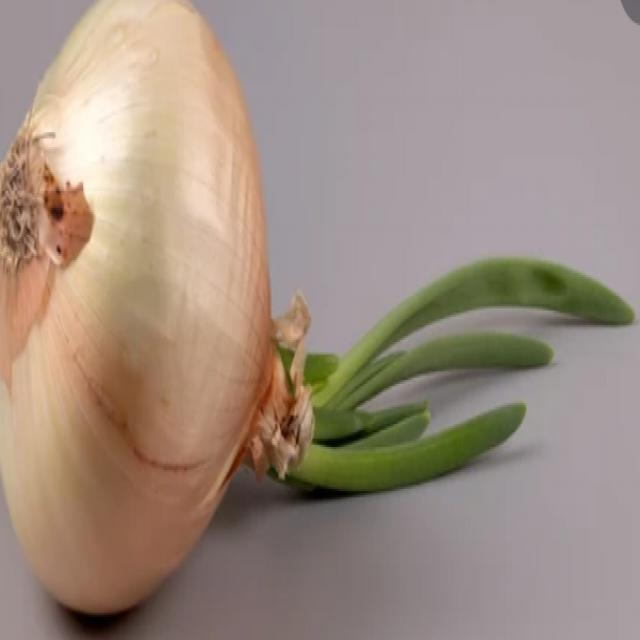sprouting: (275, 312, 507, 496)
